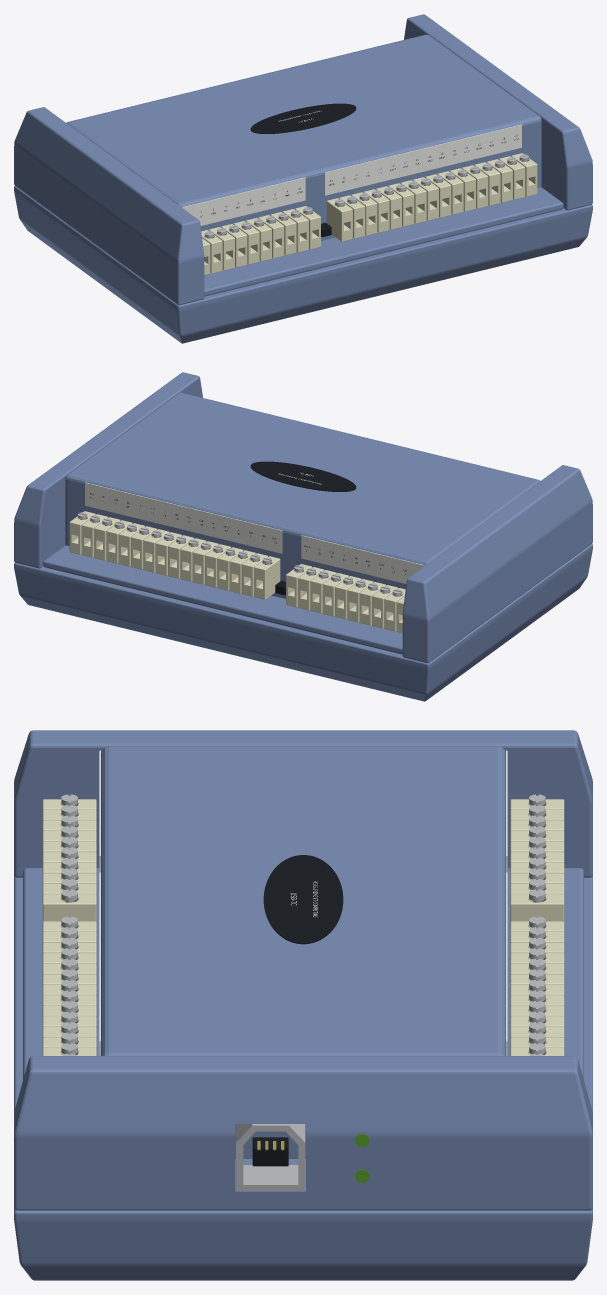
Rendered from mcc_usb_tc.glb.
3 views of the same model, one above another, from view 1: azimuth 30°, elevation 25°; view 2: azimuth 150°, elevation 25°; view 3: azimuth 270°, elevation 25° (orthographic). The views are drawn at different scales.
Parts seen in each view (by area): view 1: upper_central_shell, lower_enclosure, endcap_rear, terminal_channel_floor_-1, endcap_usb, legend_backing_0_1, legend_backing_0_0, identity_oval, pin_11_insulator, pin_04_insulator, pin_07_insulator, pin_05_insulator (+21 smaller); view 2: upper_central_shell, lower_enclosure, endcap_rear, terminal_channel_floor_1, endcap_usb, legend_backing_1_1, legend_backing_1_0, identity_oval, pin_37_insulator, pin_30_insulator, pin_33_insulator, pin_31_insulator (+21 smaller); view 3: upper_central_shell, endcap_usb, lower_enclosure, endcap_rear, identity_oval, terminal_channel_floor_-1, terminal_channel_floor_1, usb_B_shell, pin_10_insulator, pin_36_insulator, usb_B_contact_tongue.
Part boxes in pixels (x1,y1,x2,y2): upper_central_shell: (66,34,541,240); lower_enclosure: (14,186,592,343); endcap_rear: (14,107,204,305); terminal_channel_floor_-1: (204,187,563,296); endcap_usb: (404,14,592,210); legend_backing_0_1: (324,124,521,195); legend_backing_0_0: (182,177,305,225); identity_oval: (250,103,356,133); pin_11_insulator: (326,198,352,241); pin_04_insulator: (221,224,247,267); pin_07_insulator: (258,215,284,258); pin_05_insulator: (233,221,259,264); upper_central_shell: (65,392,540,598); lower_enclosure: (14,544,592,701); endcap_rear: (402,465,592,663); terminal_channel_floor_1: (43,545,402,654); endcap_usb: (14,372,202,568); legend_backing_1_1: (85,482,282,553); legend_backing_1_0: (301,535,424,583); identity_oval: (250,461,356,491); pin_37_insulator: (254,556,280,599); pin_30_insulator: (359,582,385,625); pin_33_insulator: (322,573,348,616); pin_31_insulator: (347,579,373,622); upper_central_shell: (101,746,505,1168); endcap_usb: (14,1056,592,1210); lower_enclosure: (14,875,592,1280); endcap_rear: (14,730,592,877); identity_oval: (263,855,343,944); terminal_channel_floor_-1: (23,868,99,1079); terminal_channel_floor_1: (507,868,583,1079); usb_B_shell: (236,1124,305,1190); pin_10_insulator: (42,894,96,922); pin_36_insulator: (510,894,564,922); usb_B_contact_tongue: (252,1137,288,1166).
Bounding box in the file's own units: 0.1286 × 0.0357 × 0.0884.
